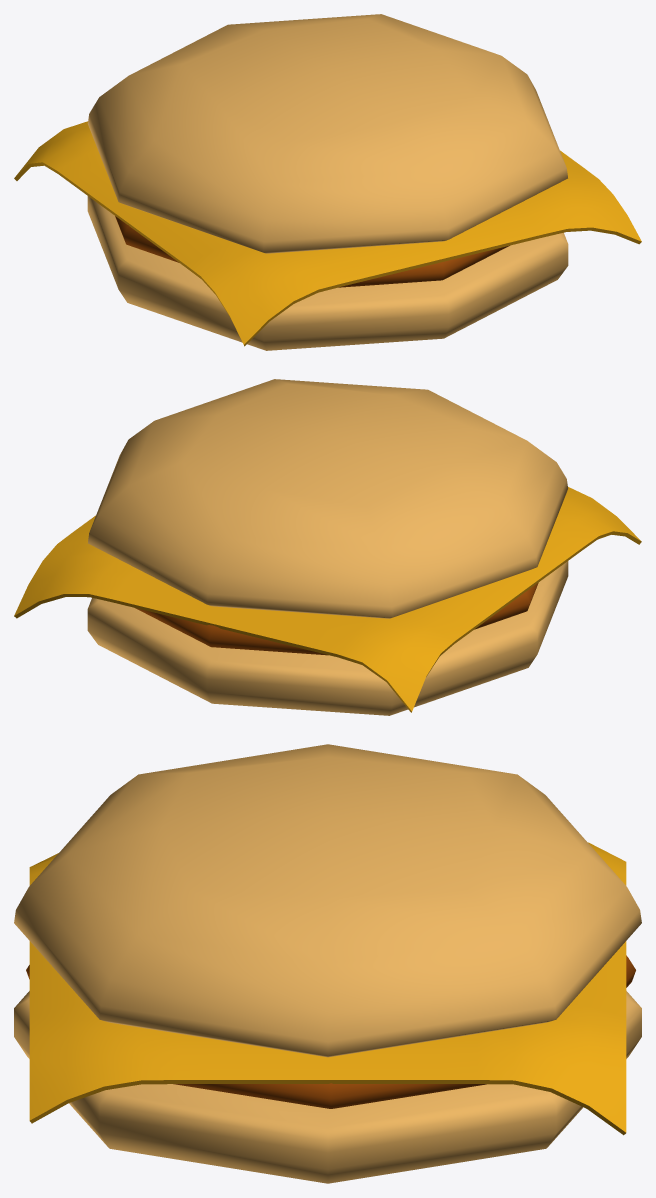
Rendered from hamburger.glb.
3 views of the same model, one above another, from view 1: azimuth 30°, elevation 25°; view 2: azimuth 150°, elevation 25°; view 3: azimuth 270°, elevation 25° (orthographic). The views are drawn at different scales.
Visible parts, largest first — view 1: Cube.002, Plane, Cube, Cube.001; view 2: Cube.002, Plane, Cube, Cube.001; view 3: Cube.002, Plane, Cube, Cube.001.
Part boxes in pixels (<box>): Cube.002: <box>87,14,567,253</box>; Plane: <box>14,121,641,346</box>; Cube: <box>87,196,568,350</box>; Cube.001: <box>115,216,509,287</box>; Cube.002: <box>88,379,568,618</box>; Plane: <box>14,487,641,712</box>; Cube: <box>87,561,568,715</box>; Cube.001: <box>135,583,538,655</box>; Cube.002: <box>14,744,641,1057</box>; Plane: <box>29,842,626,1135</box>; Cube: <box>14,991,641,1183</box>; Cube.001: <box>26,955,635,1108</box>.
Bounding box in the file's own units: 9.17 × 4.2 × 9.17.
